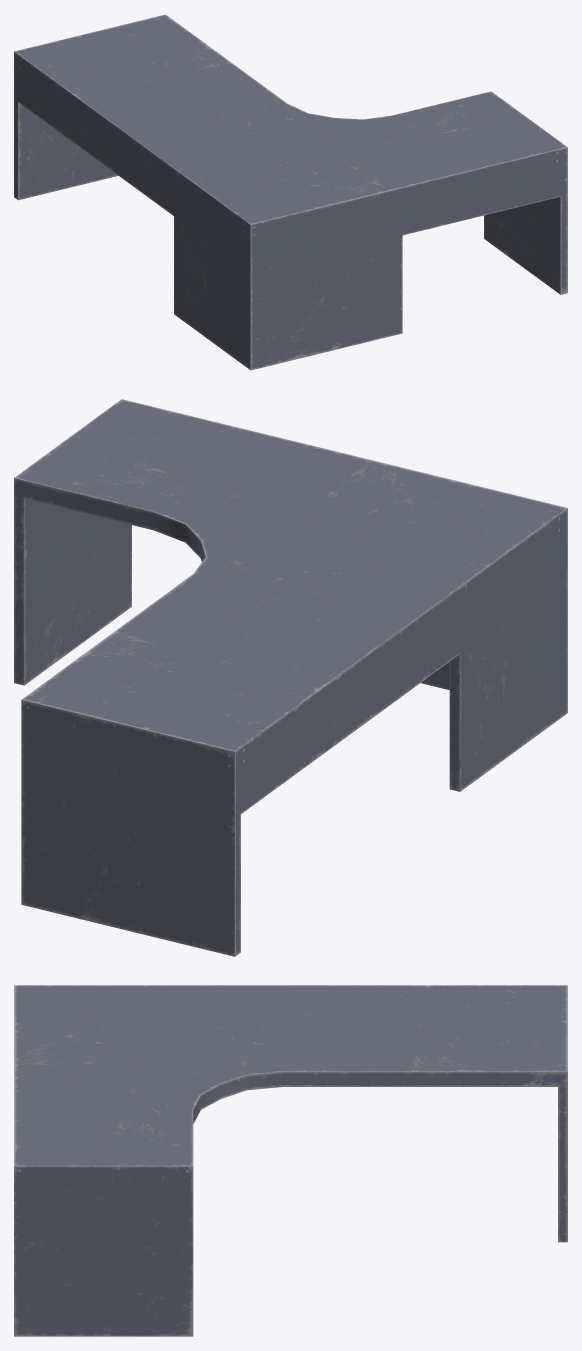
The model's file is office_table_plane.fbx.
3 views of the same model, one above another, from view 1: azimuth 30°, elevation 25°; view 2: azimuth 150°, elevation 25°; view 3: azimuth 270°, elevation 25° (orthographic). The views are drawn at different scales.
Visible parts, largest first — view 1: office_table_plane; view 2: office_table_plane; view 3: office_table_plane.
Part boxes in pixels (<box>): office_table_plane: <box>14,14,567,370</box>; office_table_plane: <box>14,399,567,956</box>; office_table_plane: <box>14,985,567,1336</box>.
Size of the model in its own units: 7.66 by 3.36 by 9.9.
